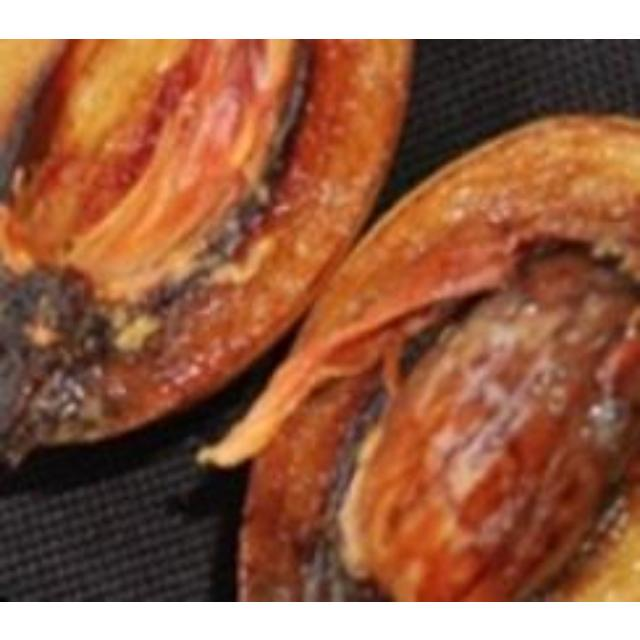damaged: (199, 114, 637, 599), (0, 38, 409, 460)
